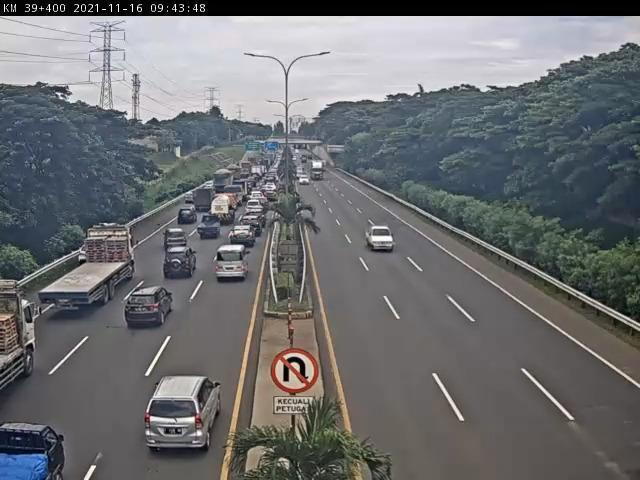car: (145, 375, 222, 456), (2, 421, 65, 480), (125, 287, 173, 329), (216, 246, 251, 284), (164, 247, 196, 279), (166, 234, 194, 261), (367, 225, 395, 250), (196, 217, 220, 242), (231, 227, 255, 252), (241, 216, 263, 236), (176, 206, 198, 225), (249, 209, 269, 225), (247, 200, 265, 214), (178, 196, 194, 208), (79, 247, 89, 264), (249, 193, 265, 202), (300, 178, 307, 185)
truck: (41, 227, 137, 308), (188, 187, 215, 216), (212, 196, 235, 226), (211, 170, 233, 197), (309, 159, 325, 184), (226, 185, 245, 206)
